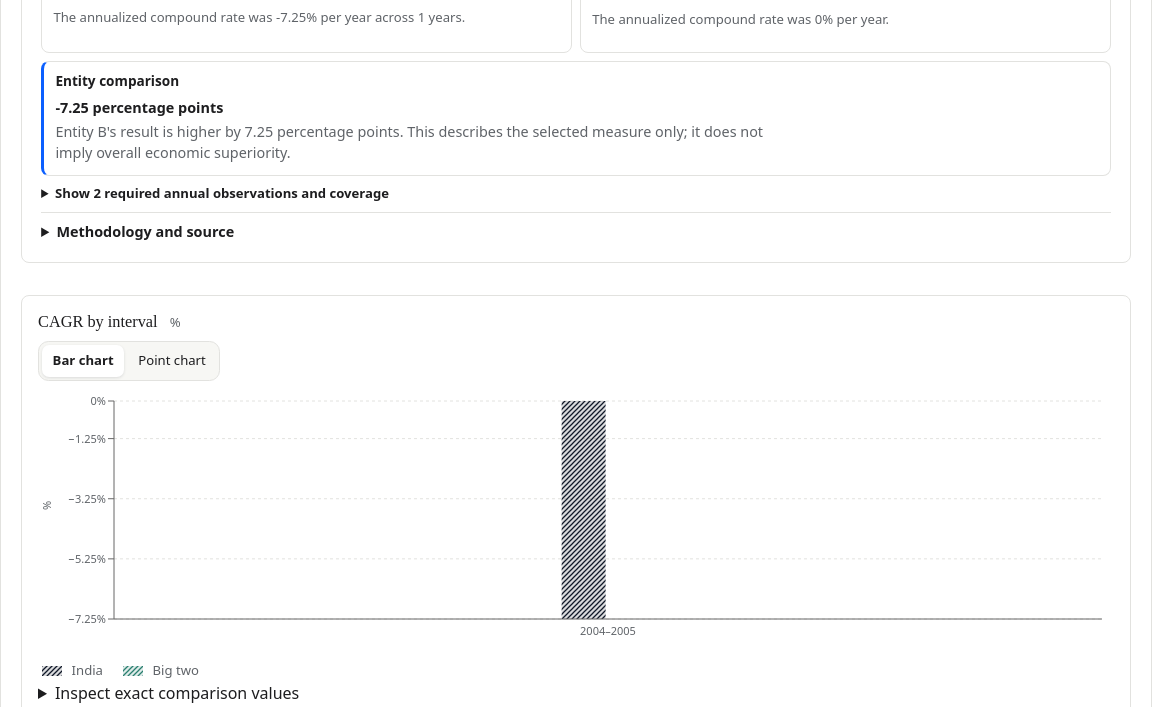
Test: compare UI: observed and like-for-like › shows the result unit in keyboard-accessible bar and point tooltips
The image size is (1152, 707).
(page scrolled)
Click the button "Bar chart" at (83, 361), box [42,345,124,377]
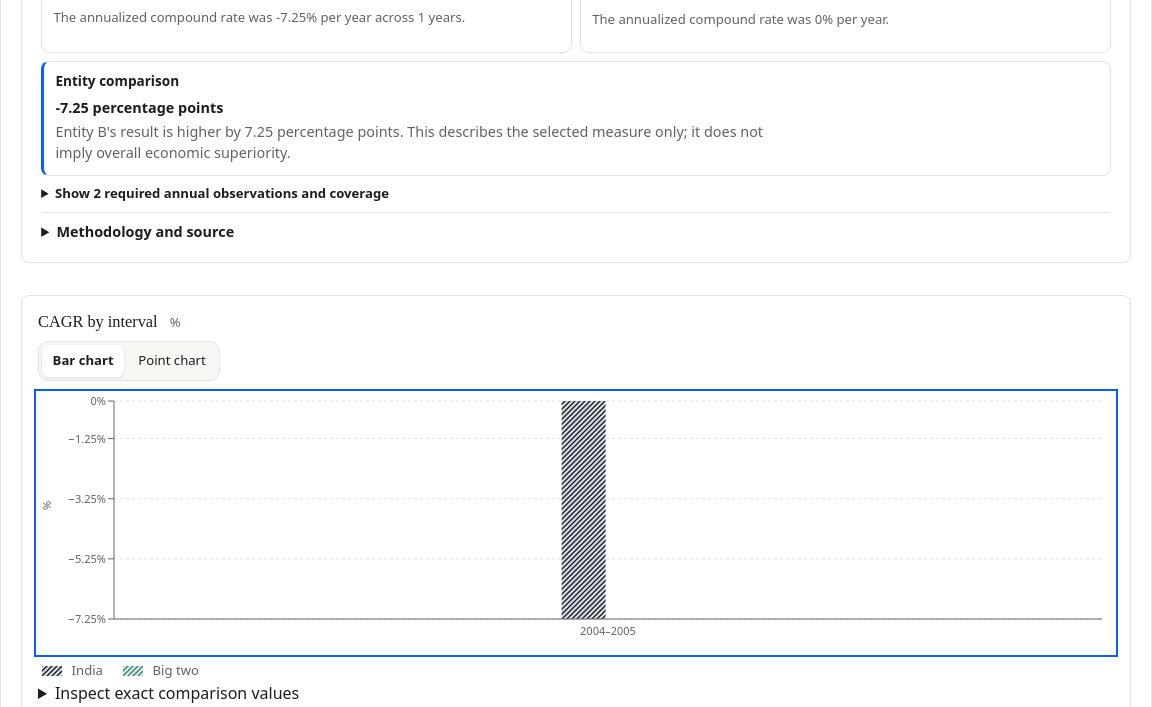
Press ArrowRight in the icon "2004–2005 −7.25% −5.25% −3.25% −1.25% 0% %", box [38,393,1114,653]
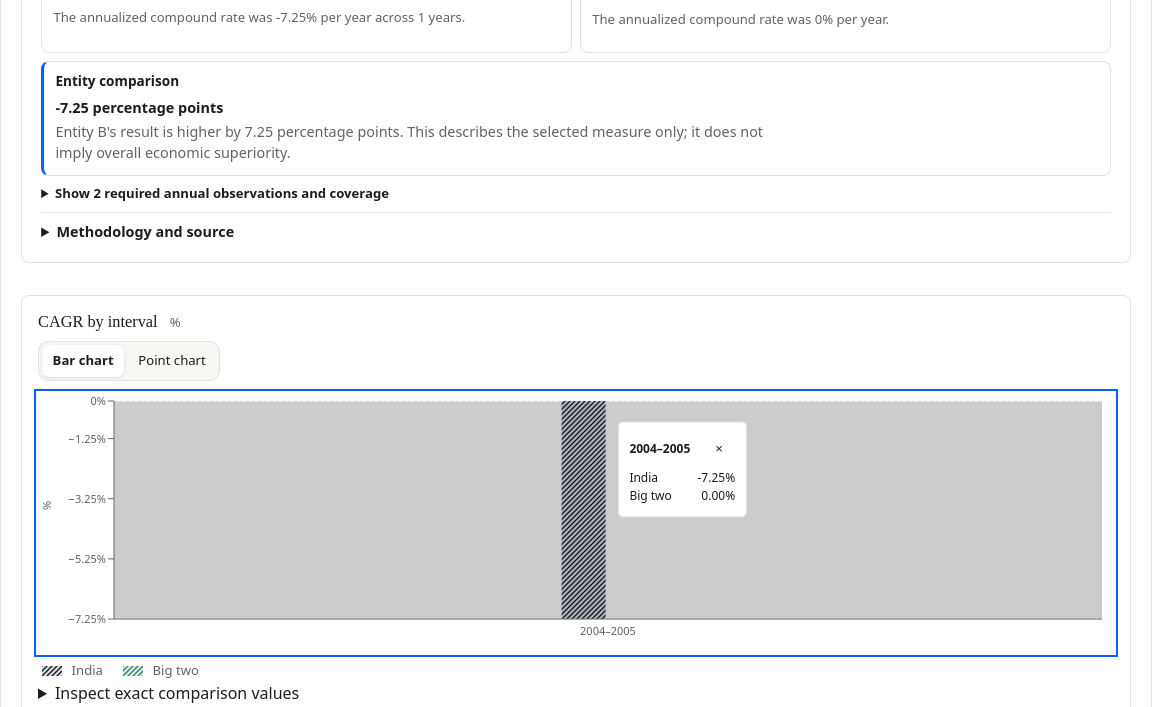
Expected: the element with class "recharts-tooltip-wrapper" shows "-7.25%", [698,470,735,487]
Expected: the element with class "recharts-tooltip-wrapper" shows "0.00%", [701,488,735,505]
Click the button "Point chart" at (172, 361), box [128,345,216,377]
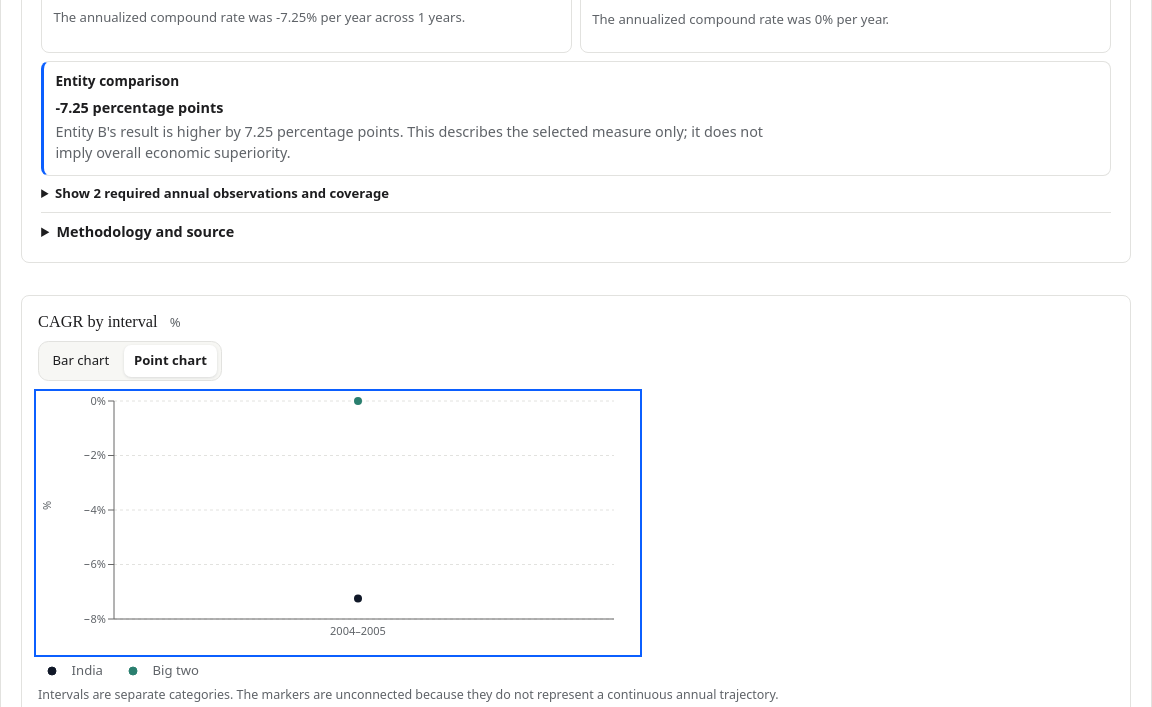
Press ArrowRight in the icon "2004–2005 −8% −6% −4% −2% 0% %", box [38,393,638,653]
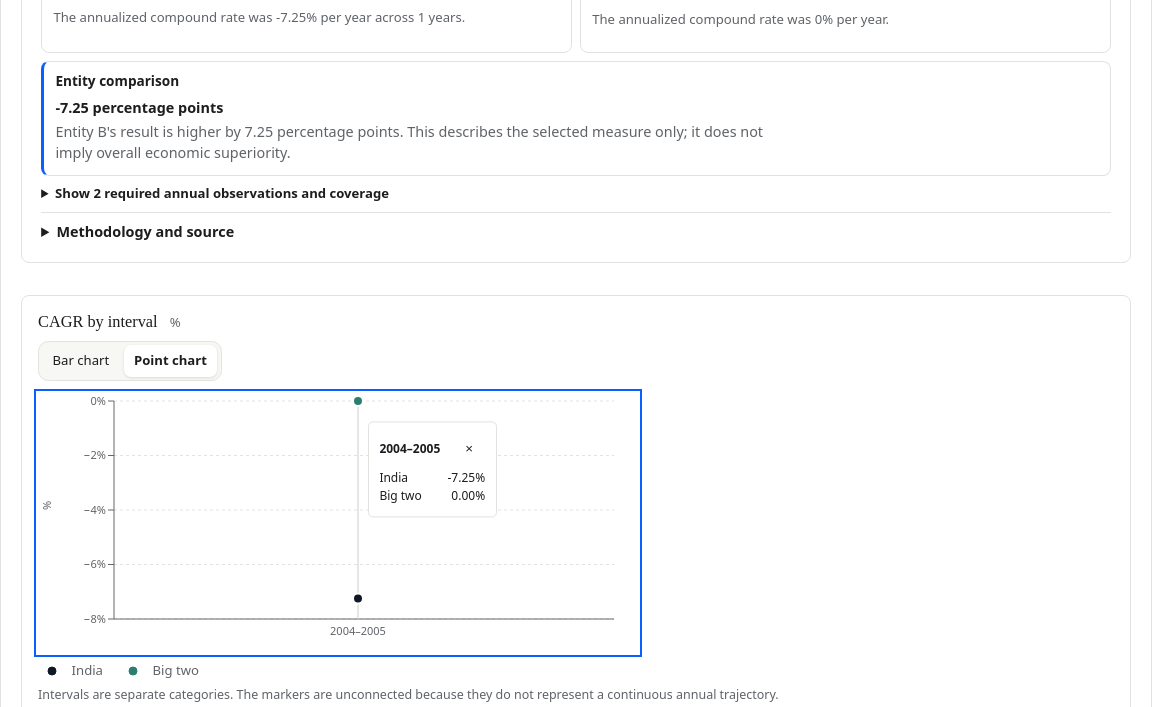
Expected: the element with class "recharts-tooltip-wrapper" shows "-7.25%", [448,470,485,487]
Expected: the element with class "recharts-tooltip-wrapper" shows "0.00%", [451,488,485,505]
